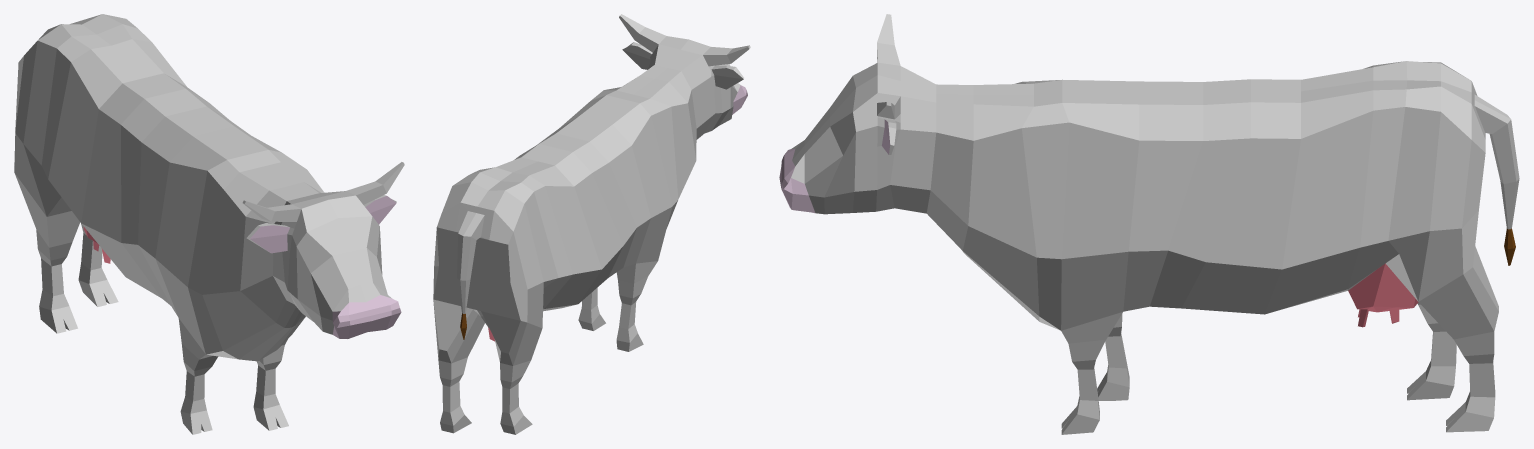
The model's file is Cow expanded.gltf.
The picture shows the model from 3 angles, left to right: view 1: azimuth 30°, elevation 25°; view 2: azimuth 150°, elevation 25°; view 3: azimuth 270°, elevation 25°; orthographic projection. The views are drawn at different scales.
Parts seen in each view (by area): view 1: node-0; view 2: node-0; view 3: node-0.
Part boxes in pixels (x1,y1,x2,y2): node-0: [14, 14, 404, 434]; node-0: [433, 14, 750, 434]; node-0: [779, 14, 1519, 434].
Size of the model in its own units: 1.86 by 3.43 by 6.5.
